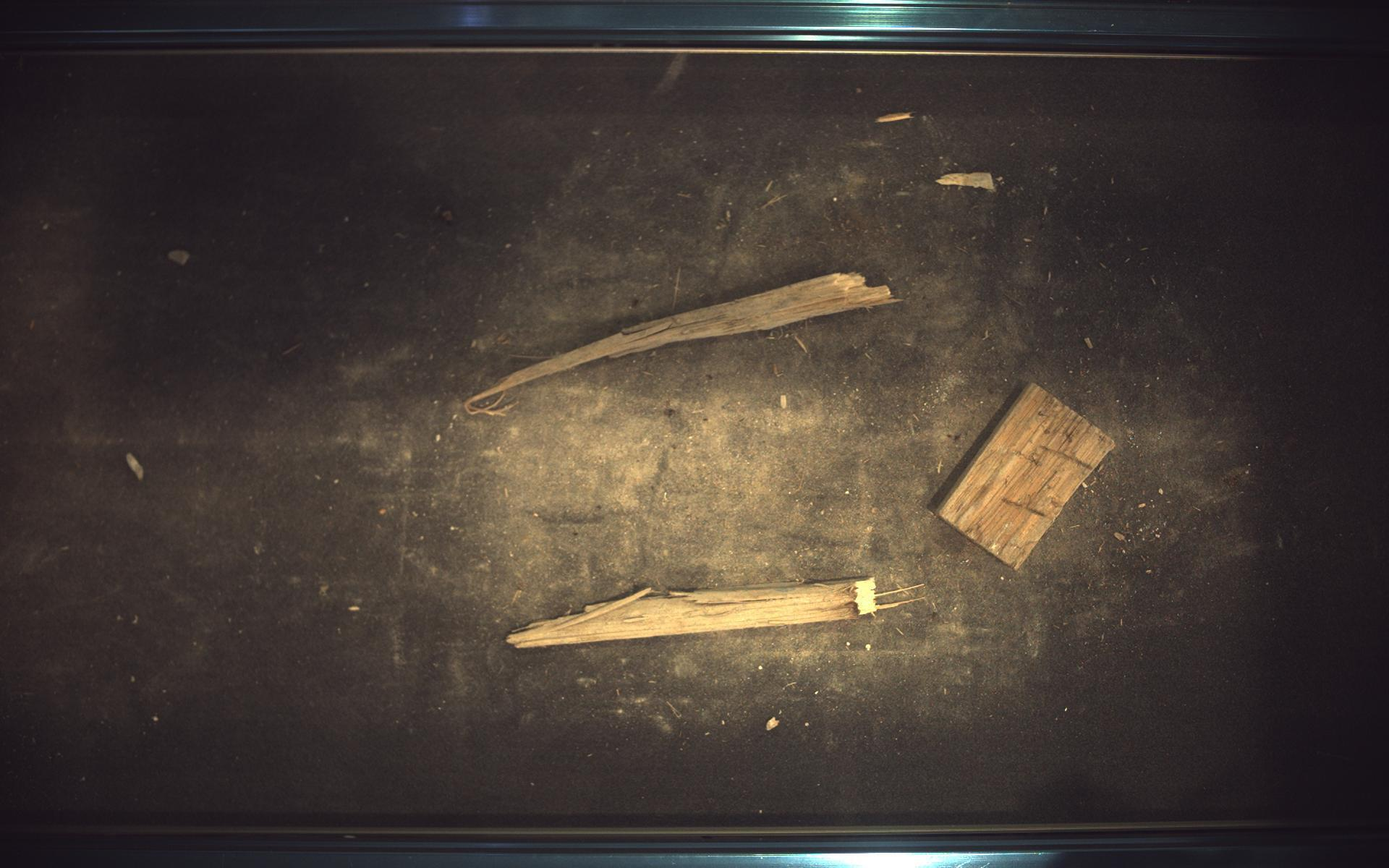wood: (464, 273, 896, 415), (940, 383, 1117, 570), (508, 579, 925, 650)
